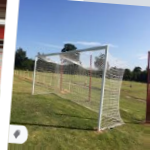goals: (31, 44, 126, 134)
